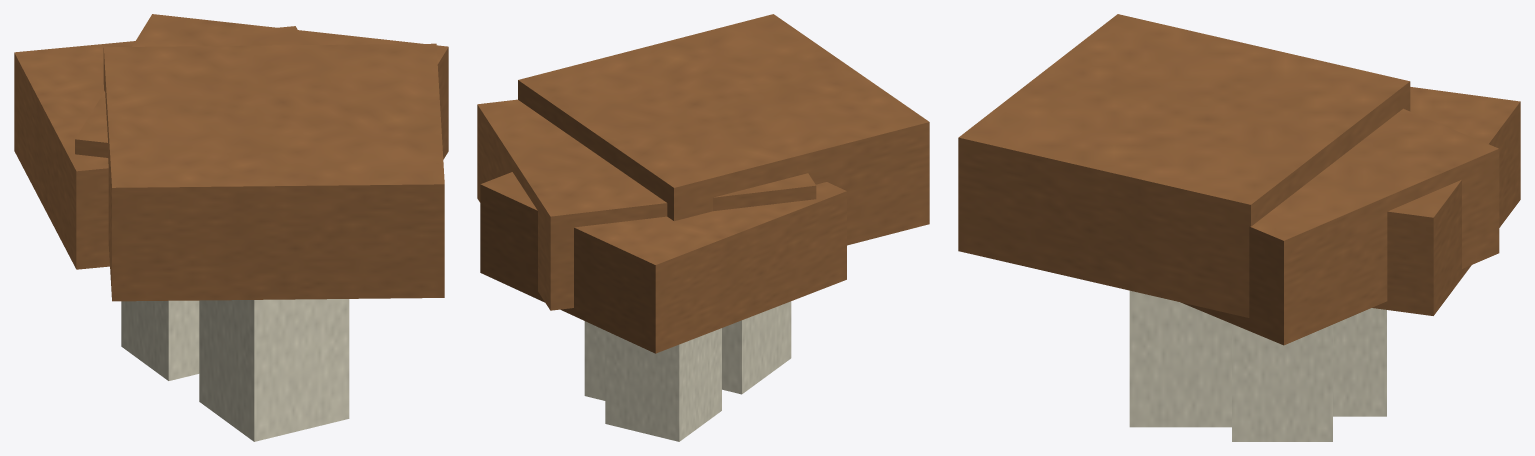
The model's file is Deco_Champignons_A.obj.
3 views of the same model, side by side, from view 1: azimuth 30°, elevation 25°; view 2: azimuth 150°, elevation 25°; view 3: azimuth 270°, elevation 25° (orthographic). The views are drawn at different scales.
Parts seen in each view (by area): view 1: Deco_Champignons_A; view 2: Deco_Champignons_A; view 3: Deco_Champignons_A.
Part boxes in pixels (<box>): Deco_Champignons_A: <box>14,14,448,441</box>; Deco_Champignons_A: <box>477,14,929,441</box>; Deco_Champignons_A: <box>958,14,1520,441</box>.
Size of the model in its own units: 1.28 by 0.8573 by 1.48.
Materials: 1 (1 with a texture image).
